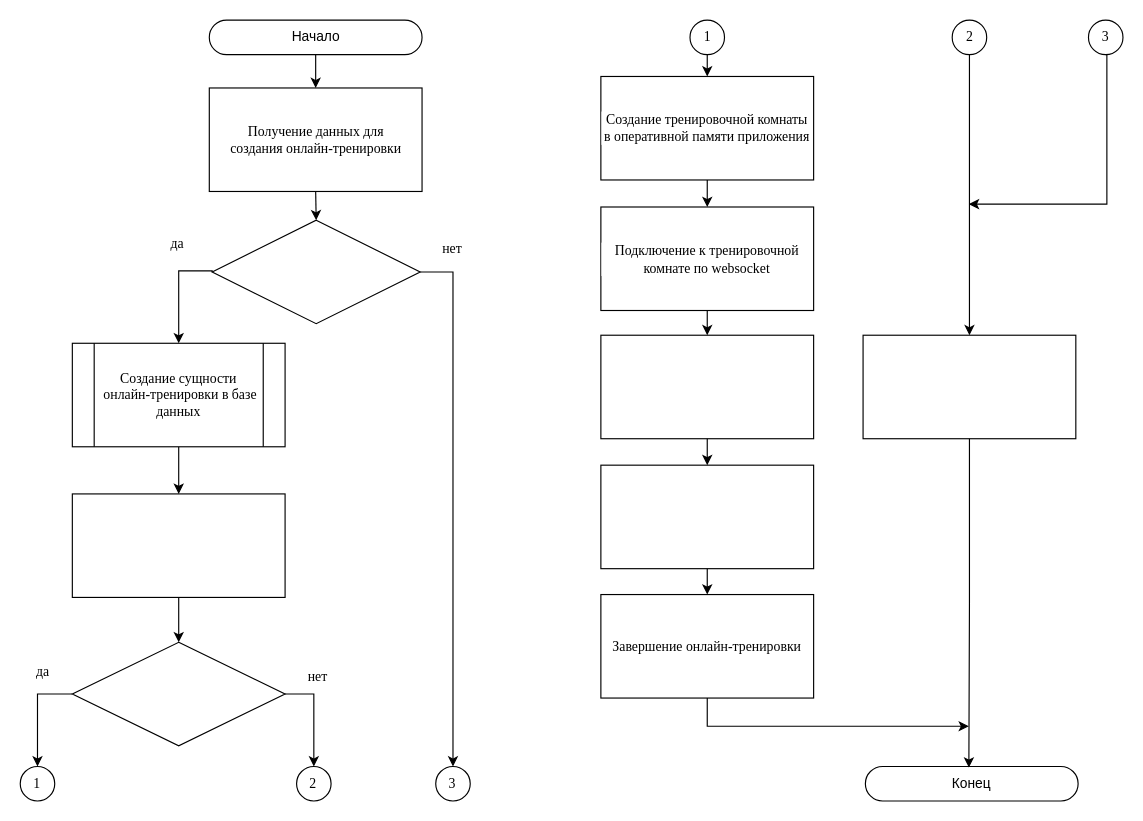
Some shapes in this 1143 by 821 pixel diagram are drawn without their labels. Here are the shapes that lost their labels. From the top down, the box of each, then its label:
(211, 219, 420, 324): Данные для создания онлайн-тренировки валидны ?
(600, 334, 814, 439): Установка p2p соединения
(862, 334, 1076, 439): Возвращение клиенту информации об ошибке
(600, 464, 814, 569): Передача медиа
(71, 493, 285, 597): Получение данных для подключения к онлайн-тренировке
(71, 641, 285, 746): Данные для подключения к онлайн-тренировке валидны ?
